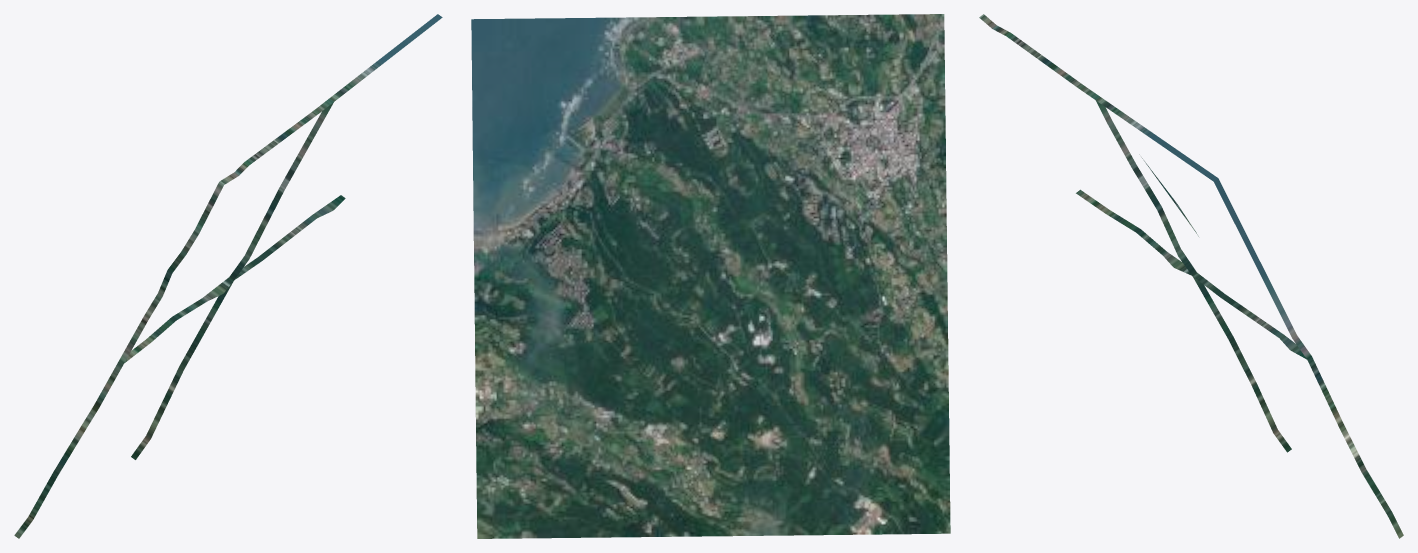
The picture shows the model from 3 angles, left to right: view 1: azimuth 30°, elevation 25°; view 2: azimuth 150°, elevation 25°; view 3: azimuth 270°, elevation 25°; orthographic projection. The views are drawn at different scales.
Size of the model in its own units: 5010 by 4419 by 4167.
1 material, 1 textured.
